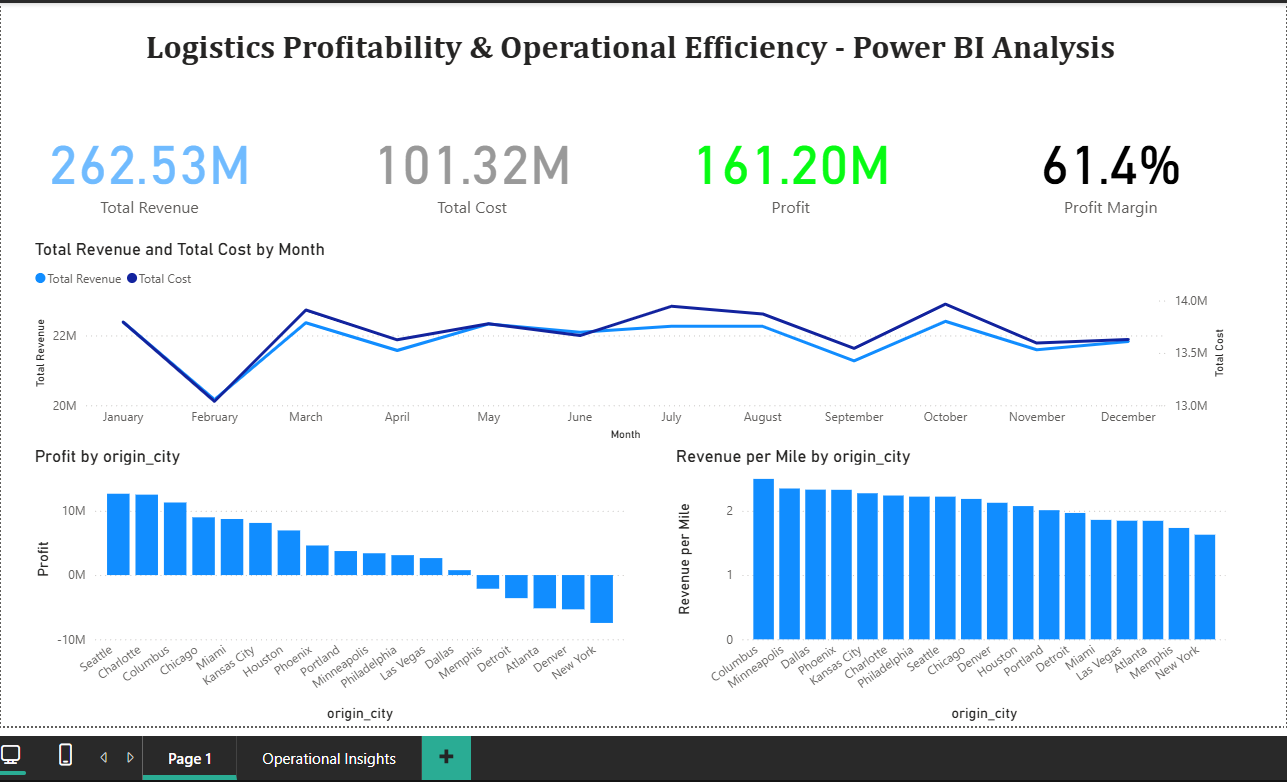

The page's visual inventory and layout, read from the dashboard file:
{"tool":"powerbi","page":{"name":"Page 1","canvas":[1280,720],"ordinal":0},"visuals":[{"type":"card","fields":{"Values":["Measures (2).Total Revenue"]},"box":[28.6,94.5,238.8,140.6],"z":0},{"type":"lineChart","fields":{"Category":["Trips.dispatch_date.Variation.Date Hierarchy.Month"],"Y":["Measures (2).Total Revenue"],"Y2":["Measures (2).Total Cost"]},"box":[28.6,235.1,1195.4,205.3],"z":1000},{"type":"clusteredColumnChart","fields":{"Category":["Routes.origin_city"],"Y":["Measures (2).Profit"]},"box":[28.6,440.4,597.1,279.9],"z":2000},{"type":"clusteredColumnChart","fields":{"Category":["Routes.origin_city"],"Y":["Measures (2).Revenue per Mile"]},"box":[666.8,440.4,557.3,279.9],"z":3000},{"type":"card","fields":{"Values":["Measures (2).Profit Margin"]},"box":[985.2,94.5,238.8,140.6],"z":4000},{"type":"card","fields":{"Values":["Measures (2).Profit"]},"box":[666.8,94.5,238.8,140.6],"z":5000},{"type":"card","fields":{"Values":["Measures (2).Total Cost"]},"box":[349.6,94.5,238.8,140.6],"z":6000},{"type":"textbox","box":[28.6,19.9,1195.4,74.6],"z":6001}]}

Visuals, with their boxes on the page's 1280x720 design canvas (x1, y1, x2, y2). These are canvas units, not pixel positions in the 1287x782 screenshot, which may show the page scaled, cropped or inside an application window:
card - Measures (2).Total Revenue: <bbox>29, 94, 267, 235</bbox>
lineChart - Trips.dispatch_date.Variation.Date Hierarchy.Month x Measures (2).Total Revenue: <bbox>29, 235, 1224, 440</bbox>
clusteredColumnChart - Routes.origin_city x Measures (2).Profit: <bbox>29, 440, 626, 720</bbox>
clusteredColumnChart - Routes.origin_city x Measures (2).Revenue per Mile: <bbox>667, 440, 1224, 720</bbox>
card - Measures (2).Profit Margin: <bbox>985, 94, 1224, 235</bbox>
card - Measures (2).Profit: <bbox>667, 94, 906, 235</bbox>
card - Measures (2).Total Cost: <bbox>350, 94, 588, 235</bbox>
textbox: <bbox>29, 20, 1224, 94</bbox>
